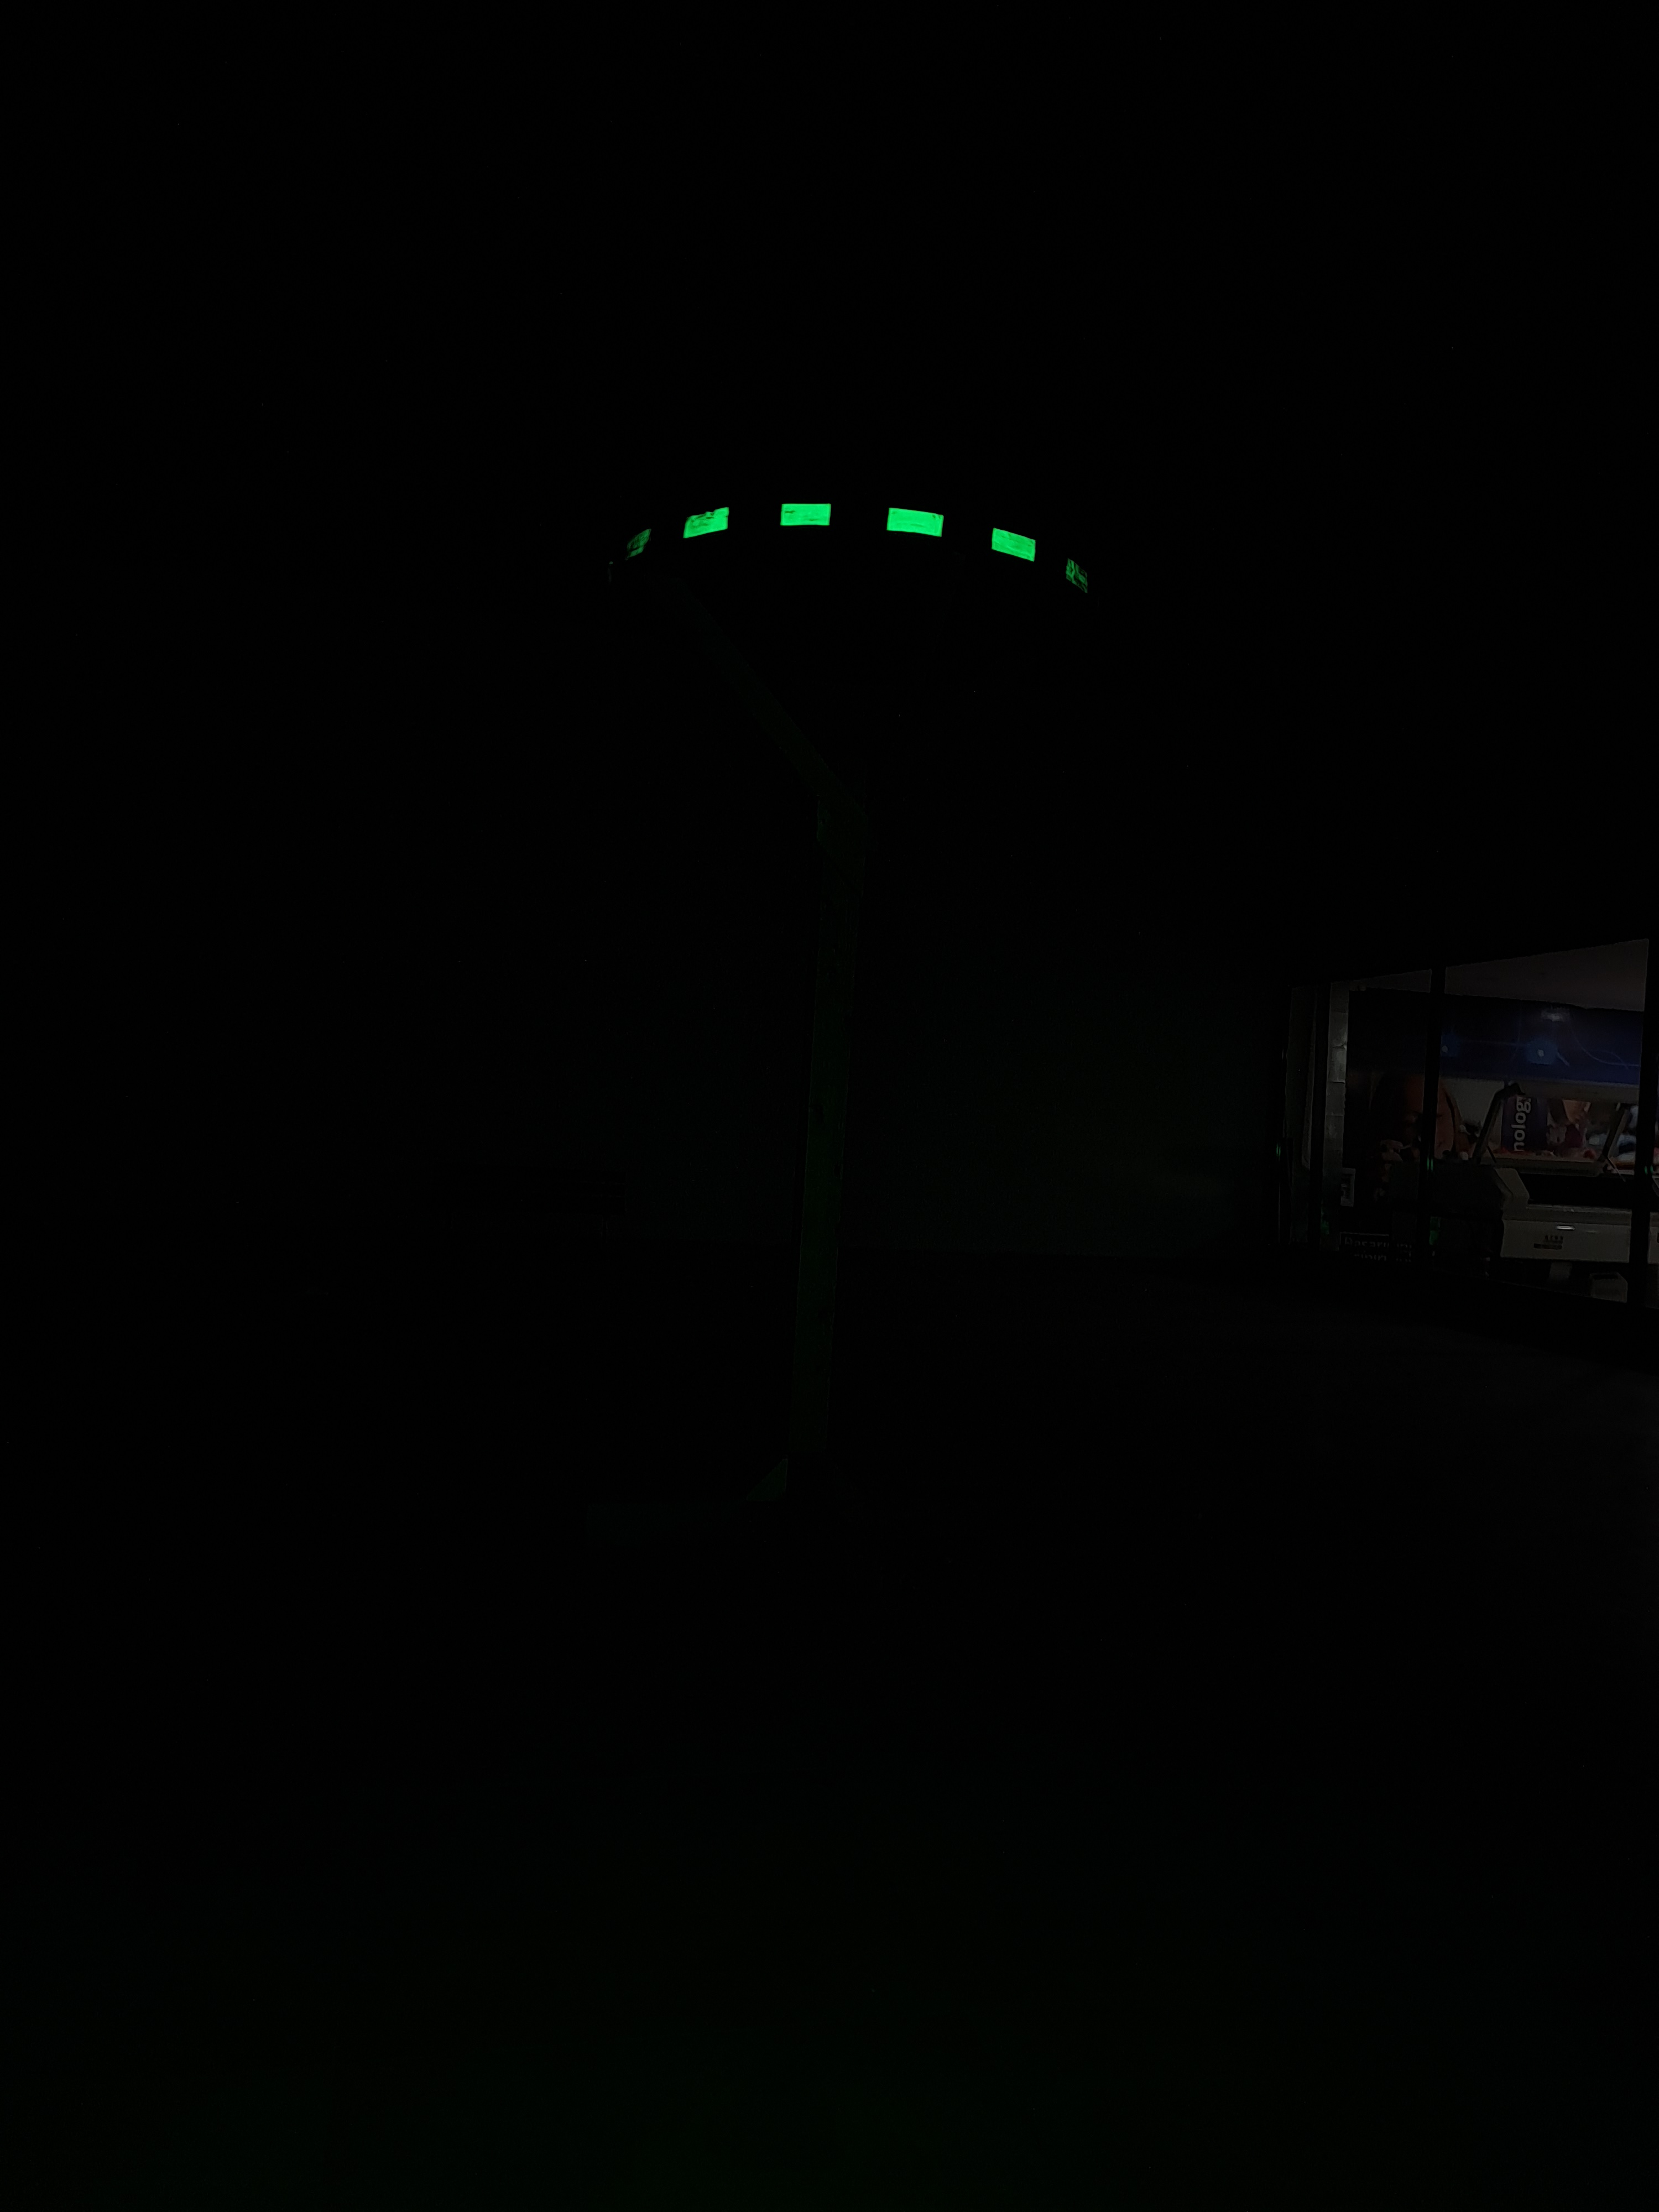hoop: (582, 477, 1117, 617)
